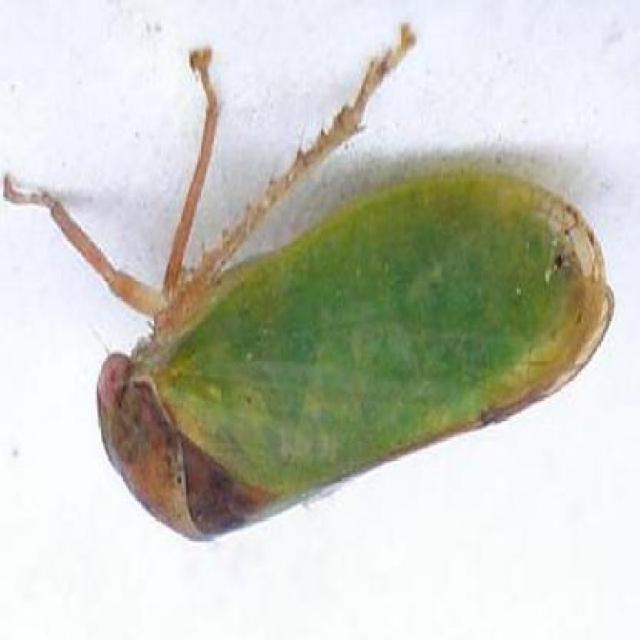green-leafhopper: (82, 173, 616, 550)
